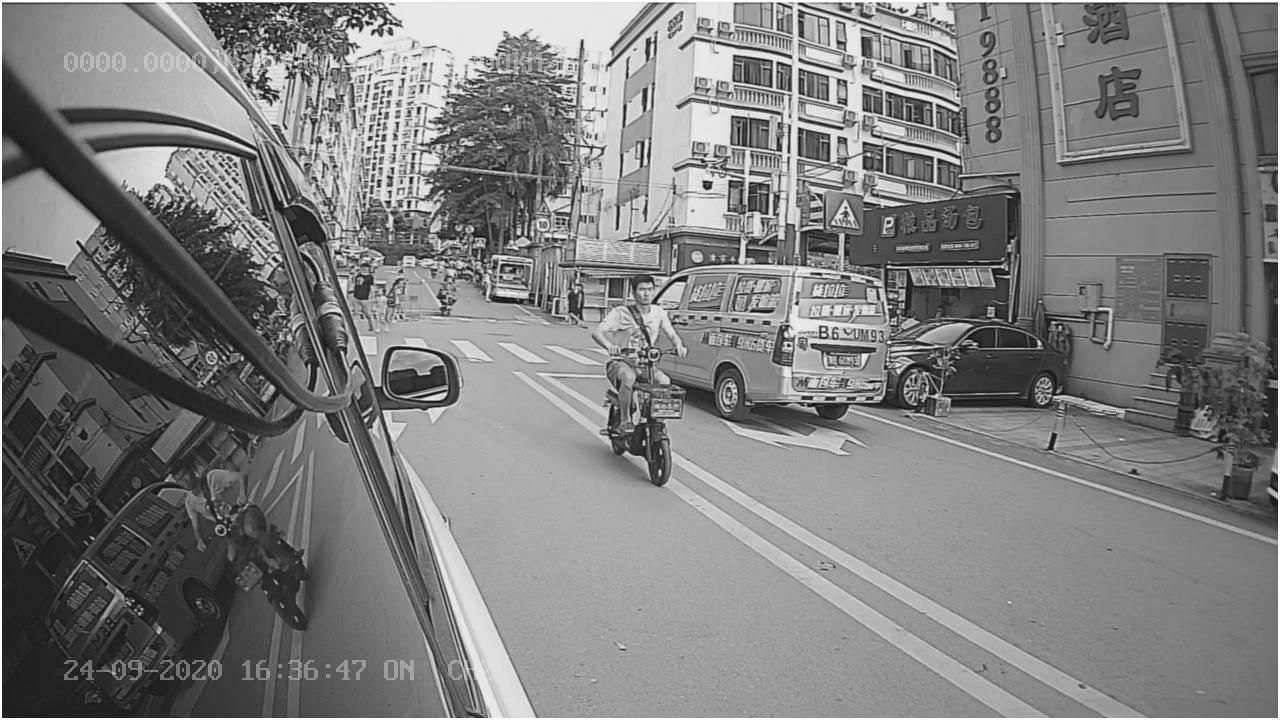person: (559, 269, 712, 503)
